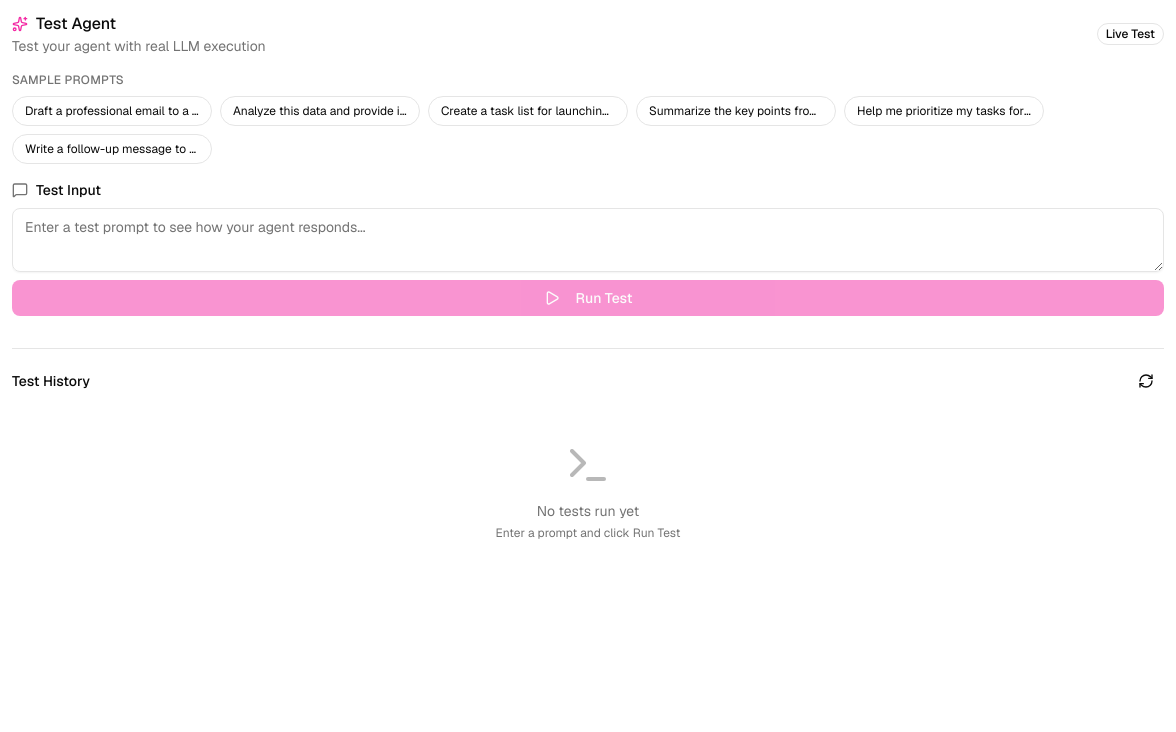
Test: TestAgentPanel › fills input when a sample prompt is clicked
Step 1. Click the button "Draft a professional email to a potentia..." → (112,111), box top-left (12, 96), bottom-right (212, 126)
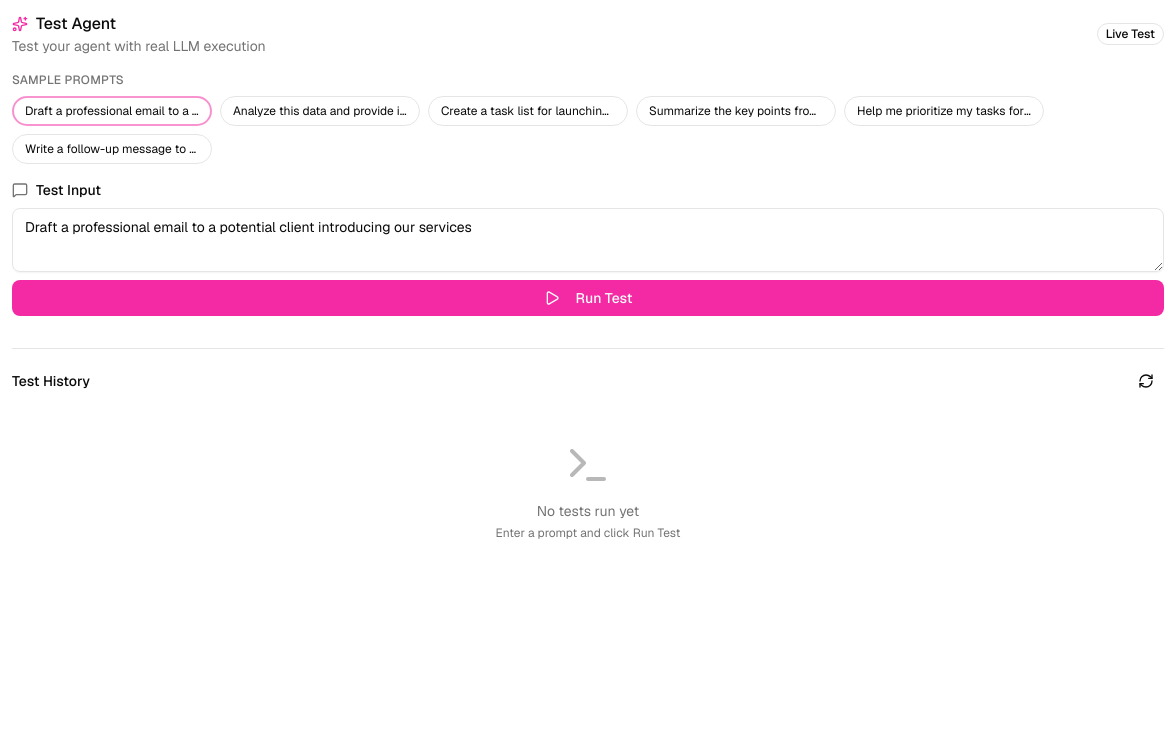
expect the text box with placeholder "Enter a test prompt to see how your agent responds..." holds "Draft a professional email to a potential client introducing our services": met, box top-left (12, 208), bottom-right (1164, 272)
